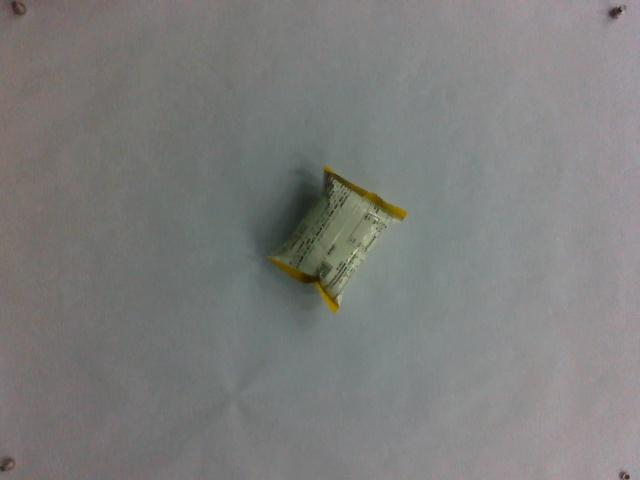dessert: (260, 166, 406, 313)
